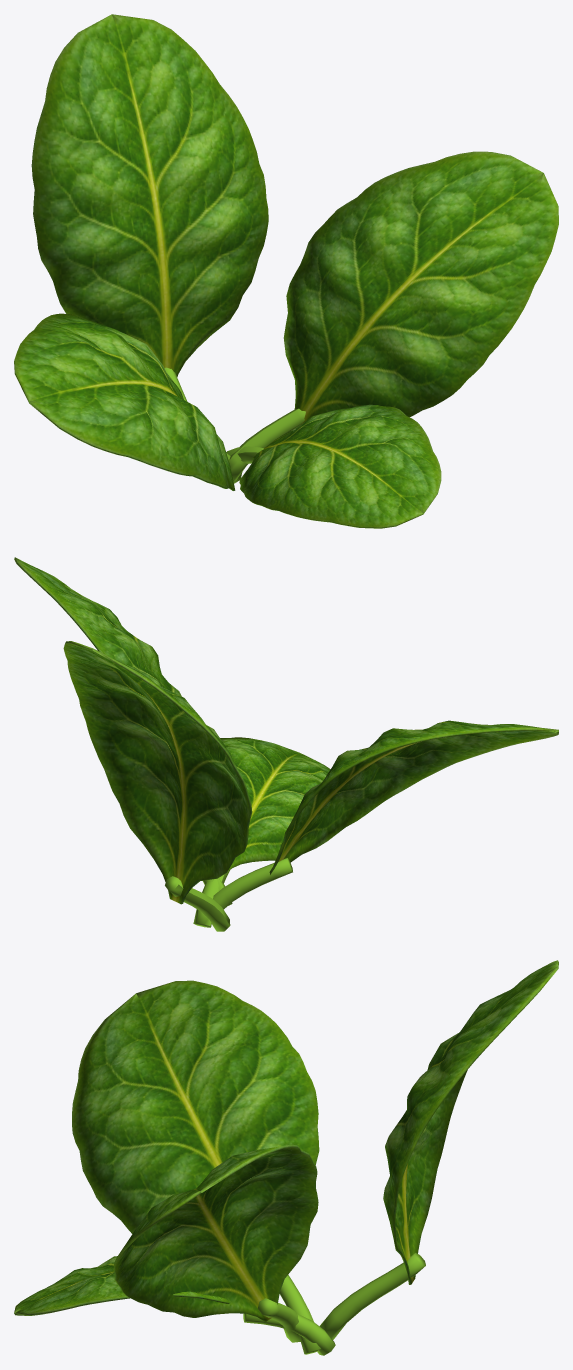
The model's file is NP_Spinach_Young.fbx.
3 renders of one model, top to bottom at view 1: azimuth 30°, elevation 25°; view 2: azimuth 150°, elevation 25°; view 3: azimuth 270°, elevation 25°, orthographic. The views are drawn at different scales.
Visible parts, largest first — view 1: NP_Spinach_Young; view 2: NP_Spinach_Young; view 3: NP_Spinach_Young.
Part boxes in pixels (left/top/right/bottom): NP_Spinach_Young: left=14, top=14, right=558, bottom=528; NP_Spinach_Young: left=14, top=557, right=558, bottom=931; NP_Spinach_Young: left=14, top=960, right=558, bottom=1355.
Bounding box in the file's own units: 44.54 × 29.64 × 37.6.
